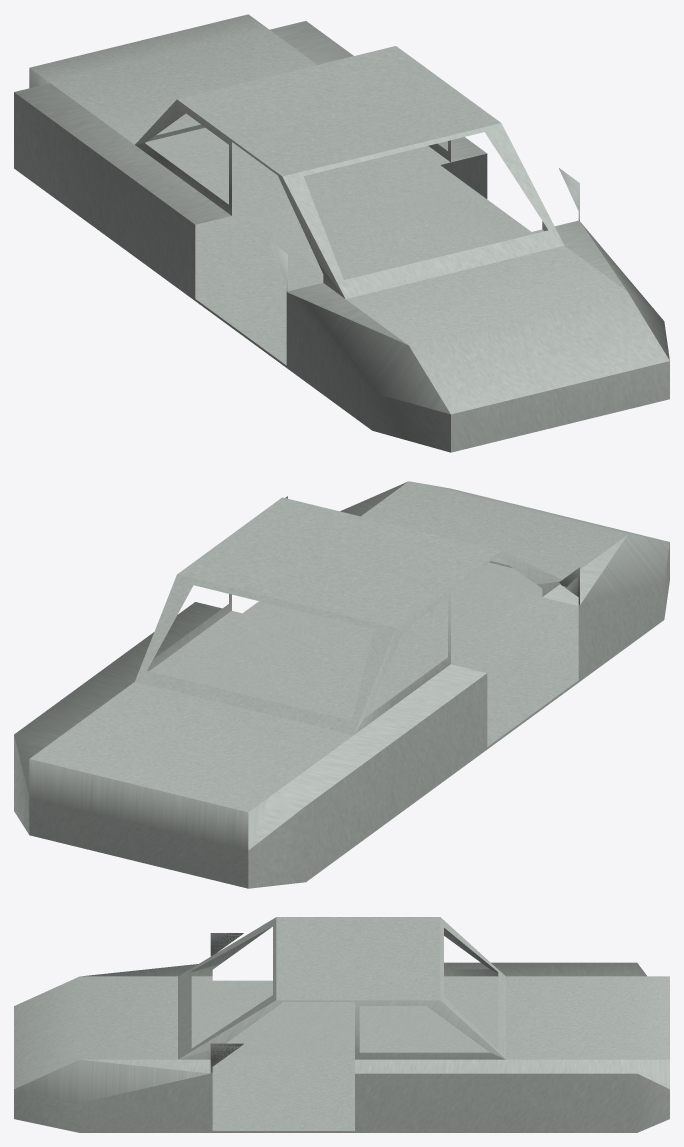
3 renders of one model, top to bottom at view 1: azimuth 30°, elevation 25°; view 2: azimuth 150°, elevation 25°; view 3: azimuth 270°, elevation 25°, orthographic. The views are drawn at different scales.
Size of the model in its own units: 1.92 by 0.96 by 4.8.
Materials: 1 (1 with a texture image).
